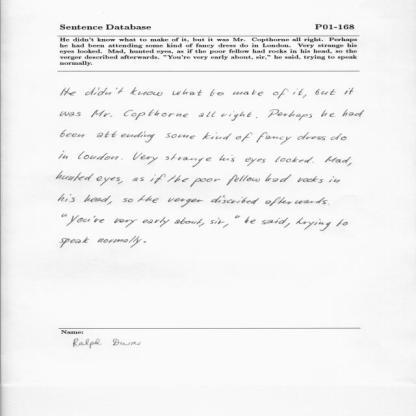Handwritten text: (52, 79, 359, 102), (44, 124, 359, 146), (45, 101, 369, 122), (57, 146, 352, 168), (39, 169, 351, 189), (38, 191, 351, 210), (64, 213, 352, 232), (51, 233, 146, 256)
